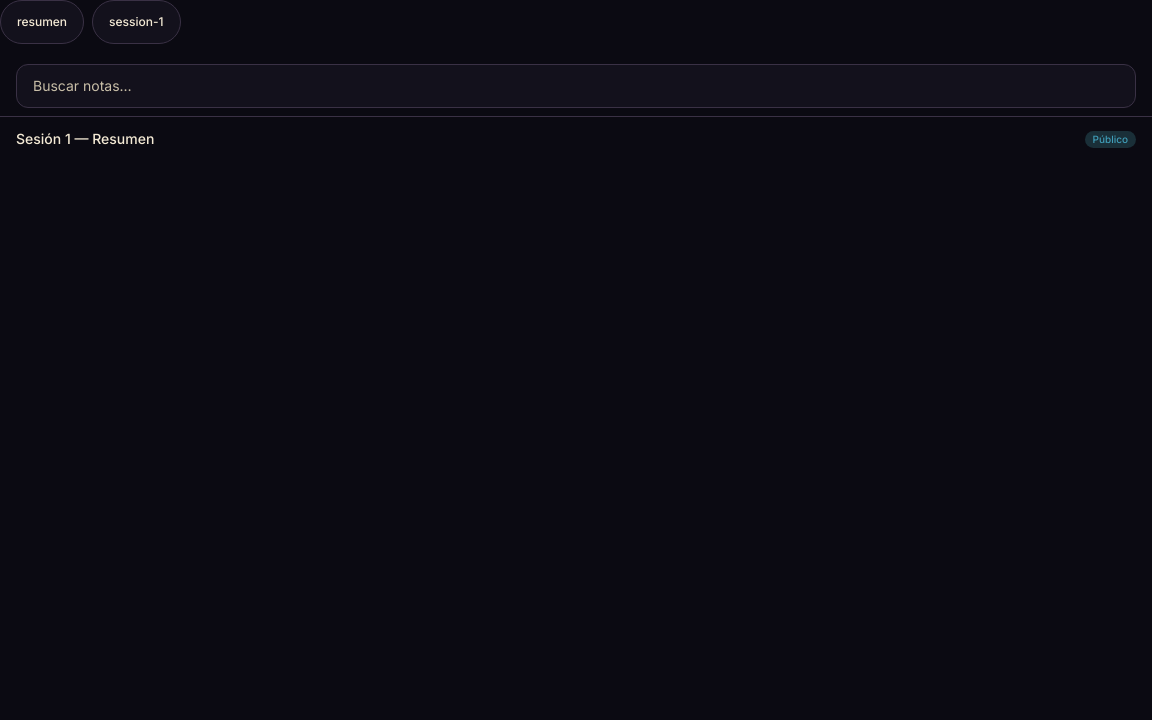
JournalClientWrapper — Player view (effectiveView="player") › (b) journal entry body is visible for player (public entry) — ADR-3
Step 1. Click the button "Sesión 1 — Resumen Público" → (85, 138), box [0, 117, 1151, 161]
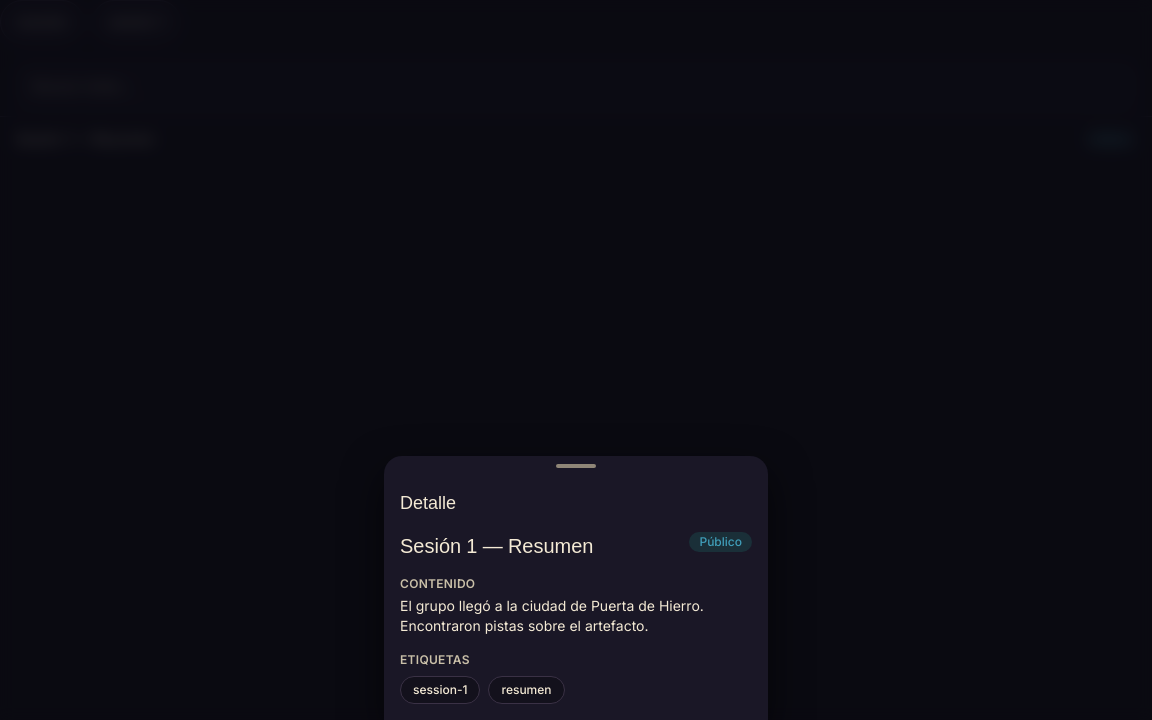
Result: the text "El grupo llegó a la ciudad" is shown at [400, 597, 704, 634]
